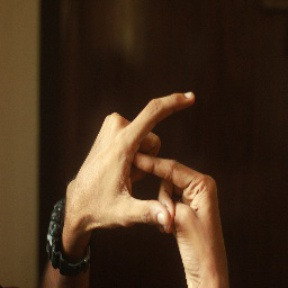E: (118, 89, 211, 236)
